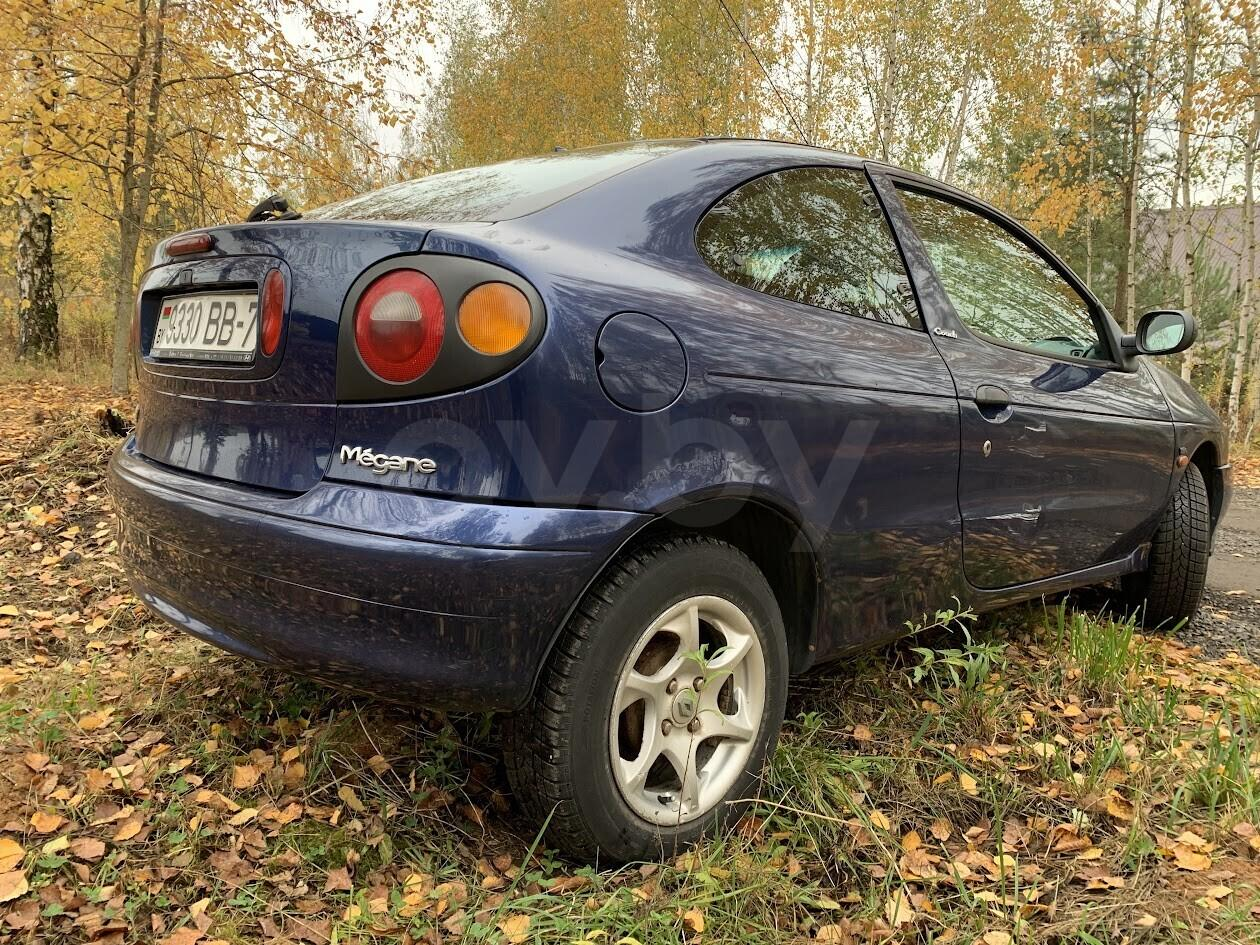Megane_1995-1999: (105, 128, 1234, 856)
